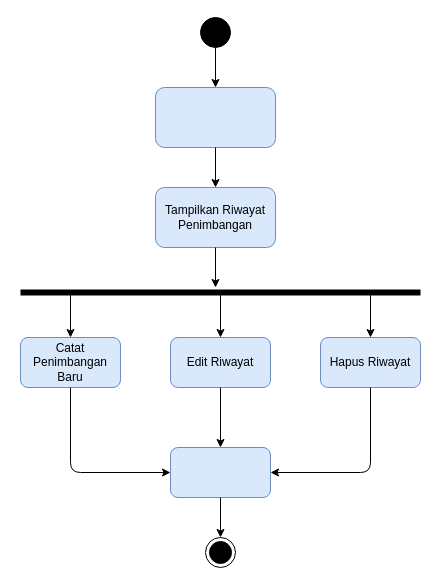
This 440x585 diagram has some shape labels left out. The centre of each missing label's shape, as x and y in pixels:
"Pilih Menu Penimbangan" goes at (x=215, y=117).
"Simpan ke DB" goes at (x=220, y=472).
